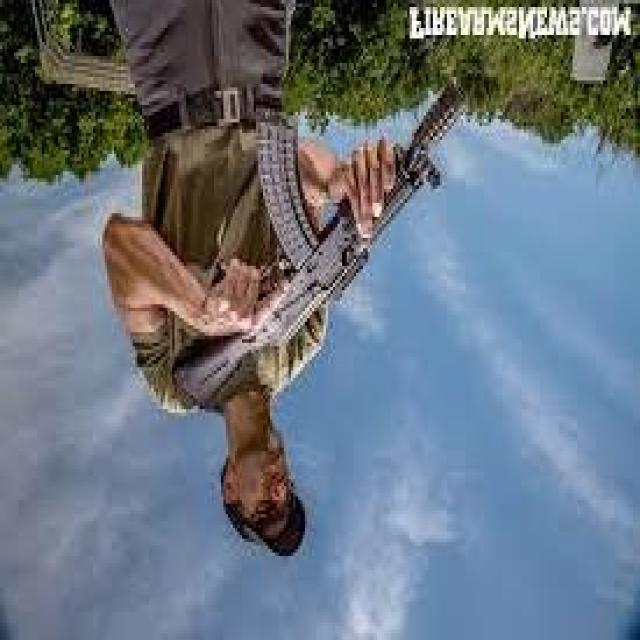Rifle: (172, 85, 468, 413)
